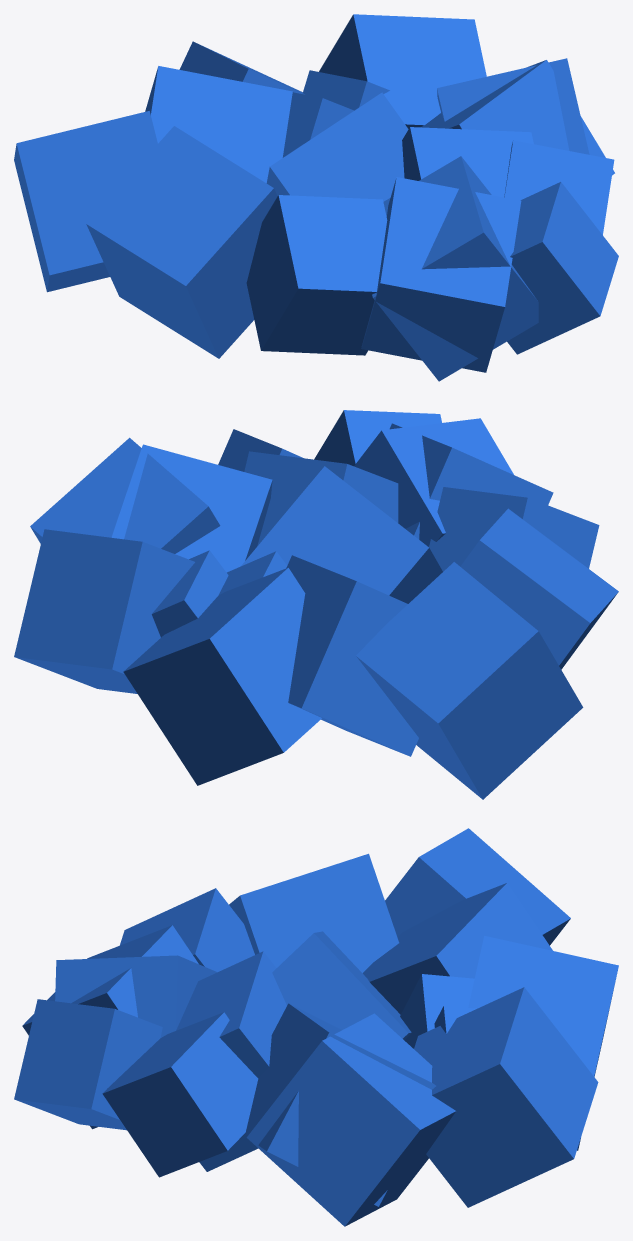
The model's file is ice.fbx.
3 views of the same model, one above another, from view 1: azimuth 30°, elevation 25°; view 2: azimuth 150°, elevation 25°; view 3: azimuth 270°, elevation 25° (orthographic).
Parts seen in each view (by area): view 1: Куб.010; view 2: Куб.010; view 3: Куб.010.
Part boxes in pixels (x1=…): Куб.010: x1=14, y1=14, x2=618, y2=381; Куб.010: x1=14, y1=410, x2=618, y2=799; Куб.010: x1=14, y1=828, x2=618, y2=1226.
Bounding box in the file's own units: 49.77 × 19.56 × 48.61.
